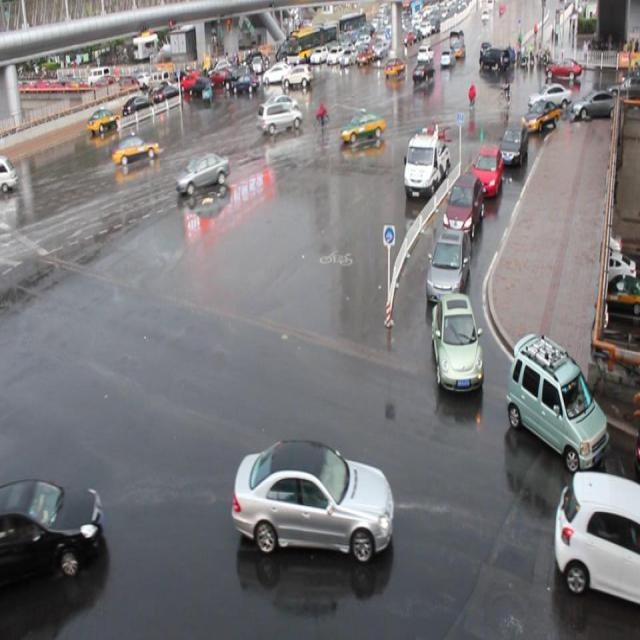bus: (402, 127, 450, 201)
car: (232, 436, 394, 558), (503, 327, 609, 472), (553, 469, 640, 606), (0, 476, 104, 578), (429, 288, 483, 390), (425, 226, 469, 301), (442, 172, 480, 235), (174, 151, 230, 190), (470, 143, 501, 197), (111, 132, 159, 164), (496, 123, 526, 171), (339, 110, 384, 142), (521, 98, 558, 134), (262, 93, 298, 116)
truck: (257, 100, 302, 132), (0, 157, 18, 191)
